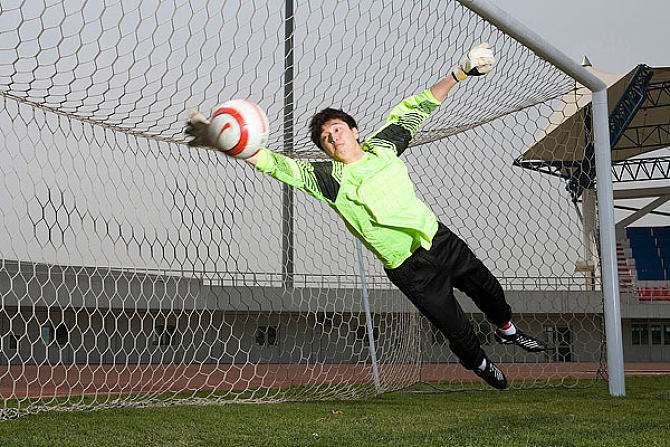football: (210, 98, 270, 161)
